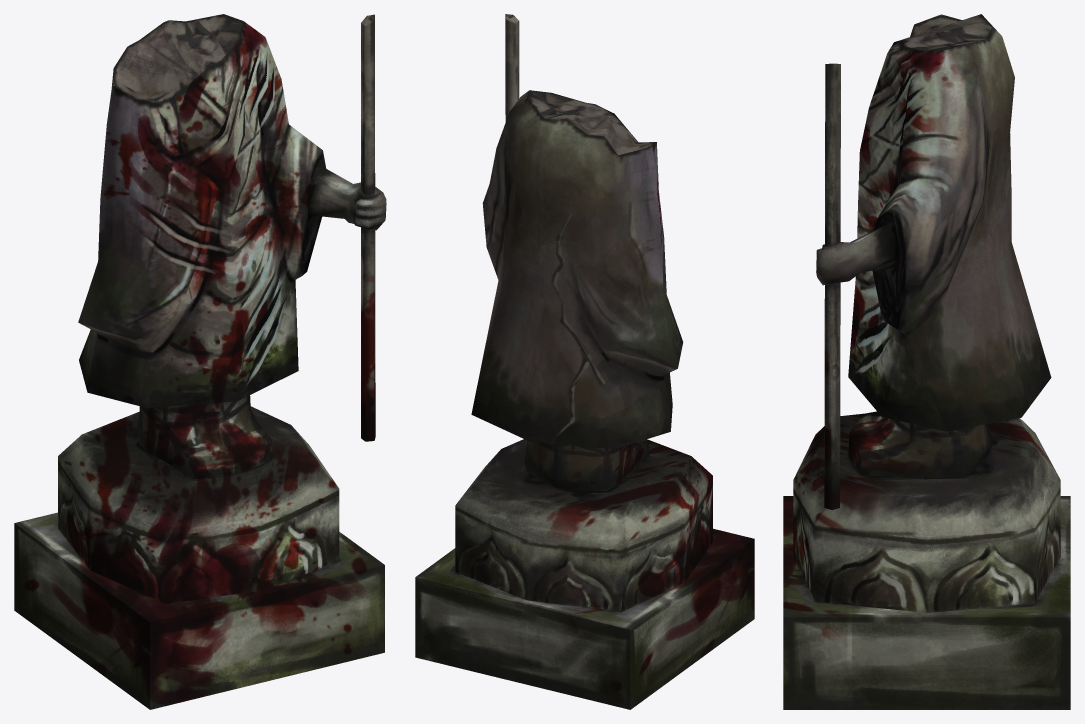
The model's file is PRP_GraveStatueB_Broken.FBX.
3 views of the same model, side by side, from view 1: azimuth 30°, elevation 25°; view 2: azimuth 150°, elevation 25°; view 3: azimuth 270°, elevation 25° (orthographic). The views are drawn at different scales.
Parts seen in each view (by area): view 1: PRP_GraveStatueB_Broken; view 2: PRP_GraveStatueB_Broken; view 3: PRP_GraveStatueB_Broken.
Boxes of the visible parts, bbox=[...] form: PRP_GraveStatueB_Broken: bbox=[14, 14, 386, 709]; PRP_GraveStatueB_Broken: bbox=[415, 14, 754, 709]; PRP_GraveStatueB_Broken: bbox=[783, 14, 1070, 709].
Bounding box in the file's own units: 200 × 461 × 184.
1 material, 1 textured.
